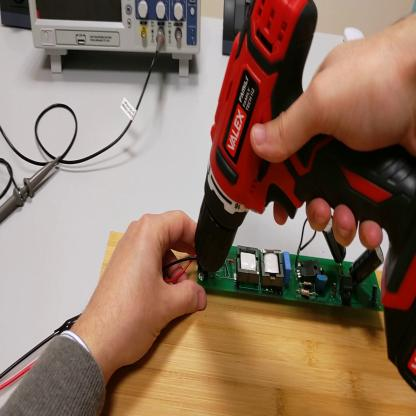electric screwdriver: (194, 1, 416, 392)
hand: (250, 24, 415, 254), (95, 212, 206, 365)
high voltage board: (162, 199, 382, 312)
oscilloscope: (28, 1, 203, 78)
oscilloscope probe tip: (1, 156, 61, 227)
socket: (2, 2, 32, 34)
working area: (99, 228, 416, 415)
